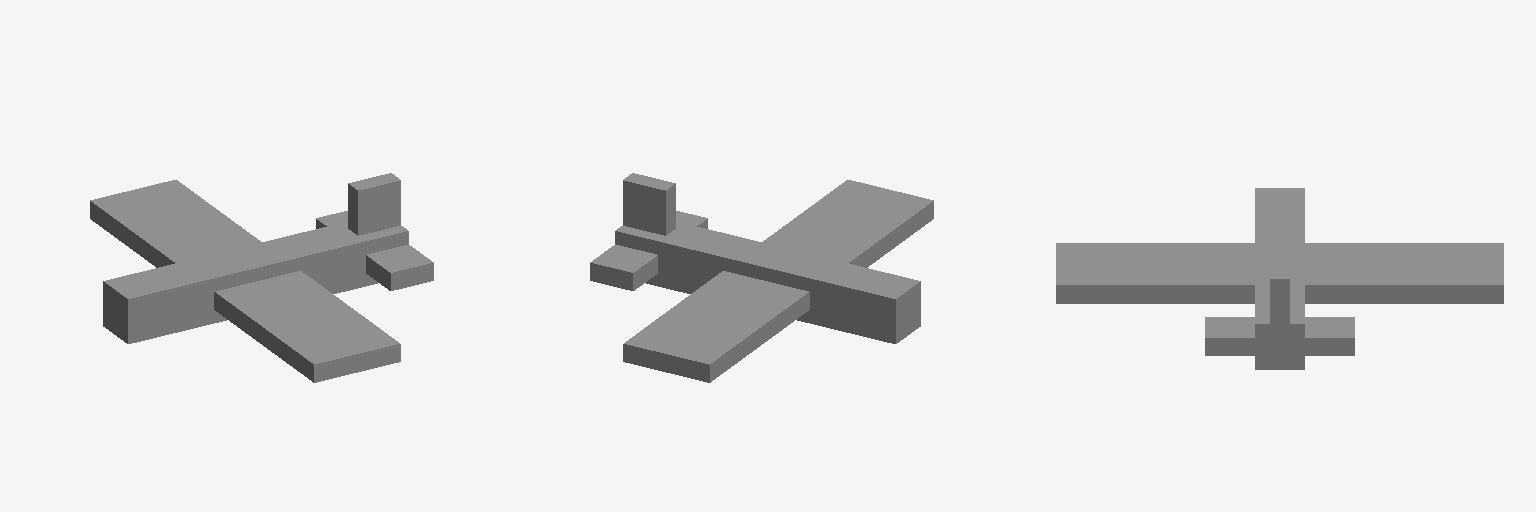
The model's file is perfect_plane_v2.obj.
3 renders of one model, left to right at view 1: azimuth 30°, elevation 25°; view 2: azimuth 150°, elevation 25°; view 3: azimuth 270°, elevation 25°, orthographic.
Parts seen in each view (by area): view 1: Perfect_plane; view 2: Perfect_plane; view 3: Perfect_plane.
Part boxes in pixels (left/top/right/bottom): Perfect_plane: left=90, top=173, right=433, bottom=382; Perfect_plane: left=590, top=173, right=933, bottom=382; Perfect_plane: left=1056, top=188, right=1503, bottom=369.
Bounding box in the file's own units: 13 × 4 × 18.